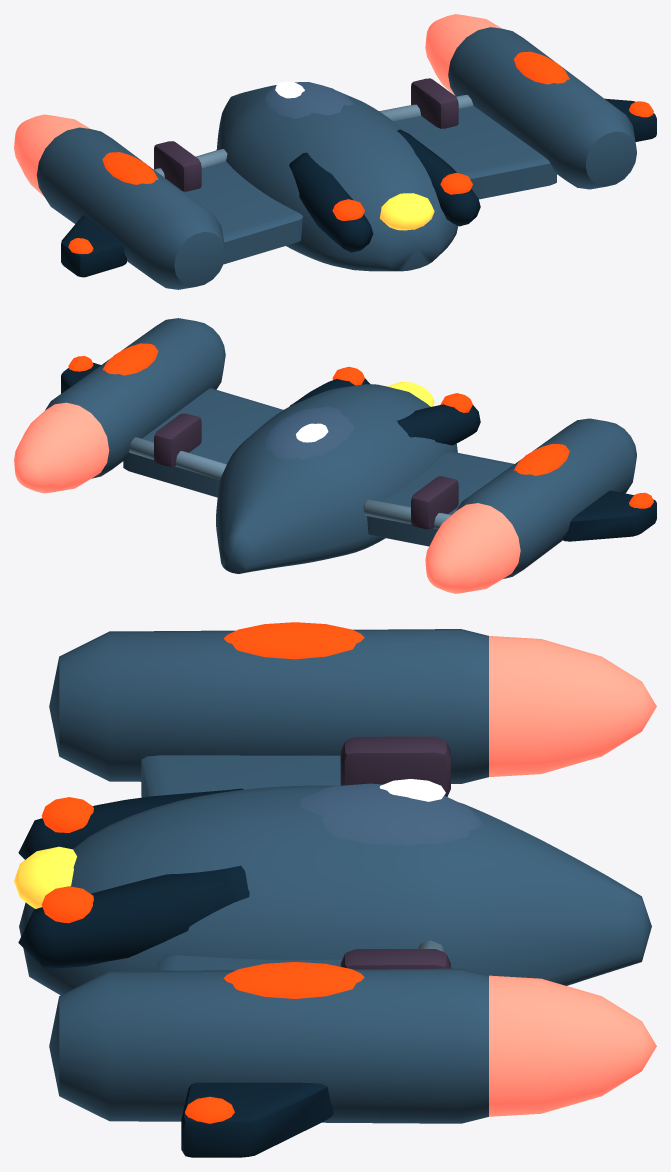
Rendered from sk_quicksilver.glb.
3 renders of one model, top to bottom at view 1: azimuth 30°, elevation 25°; view 2: azimuth 150°, elevation 25°; view 3: azimuth 270°, elevation 25°, orthographic. The views are drawn at different scales.
Parts seen in each view (by area): view 1: body, pod, pod.001, wing.001, wing, prong, tip_fin, pod_tip.001, pod_tip, prong.001, canopy, strut.001 (+9 smaller); view 2: body, pod, pod.001, pod_tip.001, pod_tip, wing.001, wing, tip_fin, canopy, prong, strut, strut.001 (+10 smaller); view 3: body, pod.001, pod, pod_tip.001, pod_tip, prong.001, tip_fin.001, canopy, wing, strut, pod_lamp, pod_lamp.001 (+8 smaller).
Part boxes in pixels (bbox=[...]): body: bbox=[216, 85, 458, 271]; pod: bbox=[36, 127, 225, 289]; pod.001: bbox=[448, 27, 636, 189]; wing.001: bbox=[393, 106, 556, 199]; wing: bbox=[183, 161, 302, 264]; prong: bbox=[289, 152, 373, 252]; tip_fin: bbox=[61, 215, 126, 277]; pod_tip.001: bbox=[425, 14, 501, 95]; pod_tip: bbox=[14, 114, 90, 195]; prong.001: bbox=[397, 129, 480, 226]; canopy: bbox=[265, 82, 354, 118]; strut.001: bbox=[411, 78, 458, 128]; body: bbox=[216, 384, 457, 573]; pod: bbox=[456, 418, 636, 578]; pod.001: bbox=[45, 318, 225, 478]; pod_tip.001: bbox=[14, 402, 109, 493]; pod_tip: bbox=[425, 503, 520, 593]; wing.001: bbox=[123, 388, 283, 497]; wing: bbox=[367, 451, 514, 546]; tip_fin: bbox=[563, 490, 656, 541]; canopy: bbox=[265, 406, 354, 459]; prong: bbox=[397, 404, 480, 445]; strut: bbox=[411, 476, 458, 529]; strut.001: bbox=[154, 413, 201, 466]; body: bbox=[19, 785, 651, 995]; pod.001: bbox=[49, 968, 488, 1123]; pod: bbox=[49, 629, 488, 783]; pod_tip.001: bbox=[489, 975, 656, 1116]; pod_tip: bbox=[489, 636, 656, 776]; prong.001: bbox=[18, 865, 249, 968]; tip_fin.001: bbox=[181, 1082, 333, 1157]; canopy: bbox=[300, 783, 481, 846]; wing: bbox=[141, 755, 340, 797]; strut: bbox=[340, 736, 450, 796]; pod_lamp: bbox=[223, 622, 364, 659]; pod_lamp.001: bbox=[223, 962, 364, 998].
Size of the model in its own units: 22.6 by 4.44 by 12.8.
